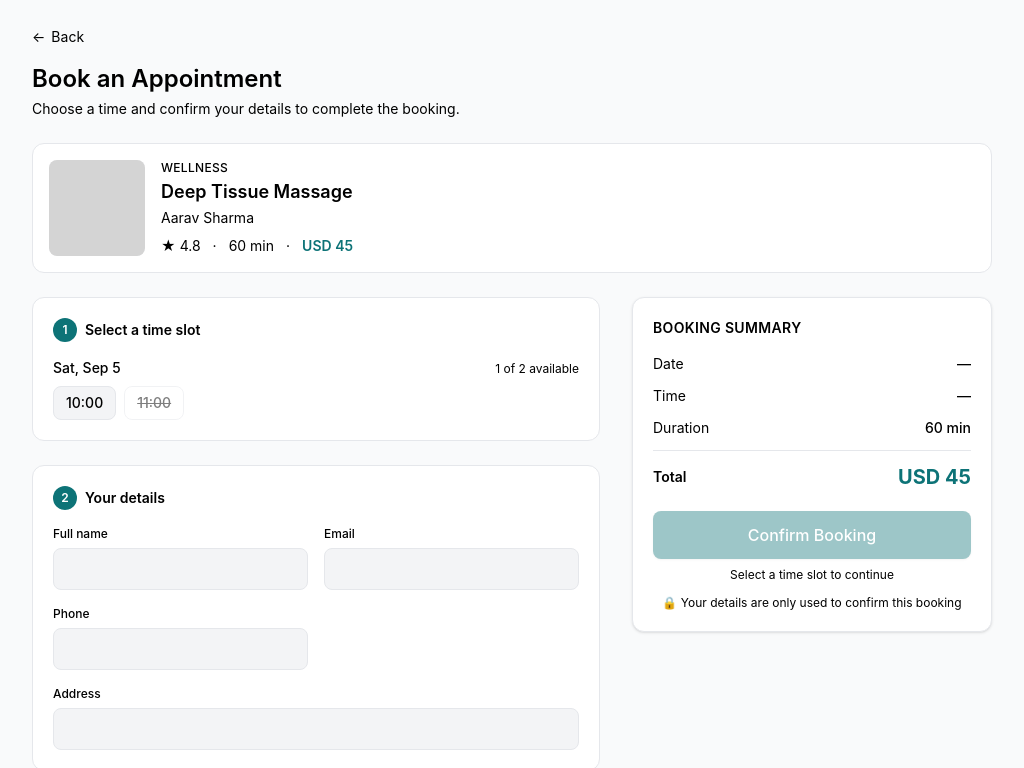
Scenario: BookingPage › shows a slot conflict message instead of navigating
Click the button "10:00".
click(85, 403)  # box [53, 386, 116, 420]
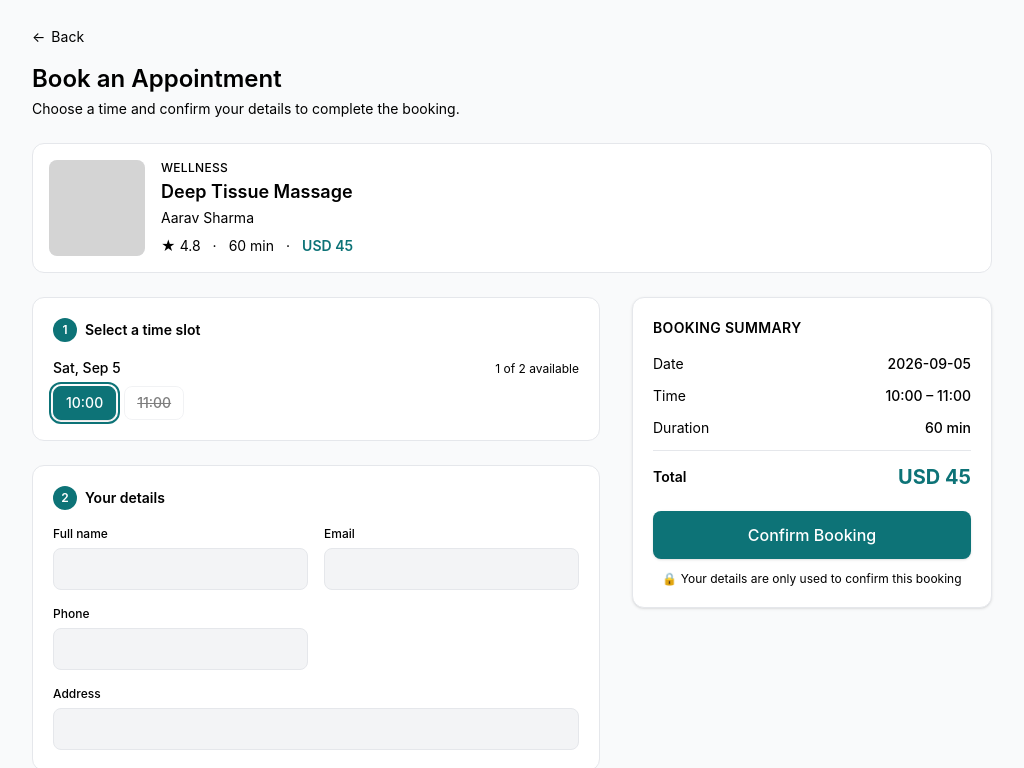
Click the button "Confirm Booking".
click(812, 535)  # box [653, 511, 971, 559]
(page scrolled)
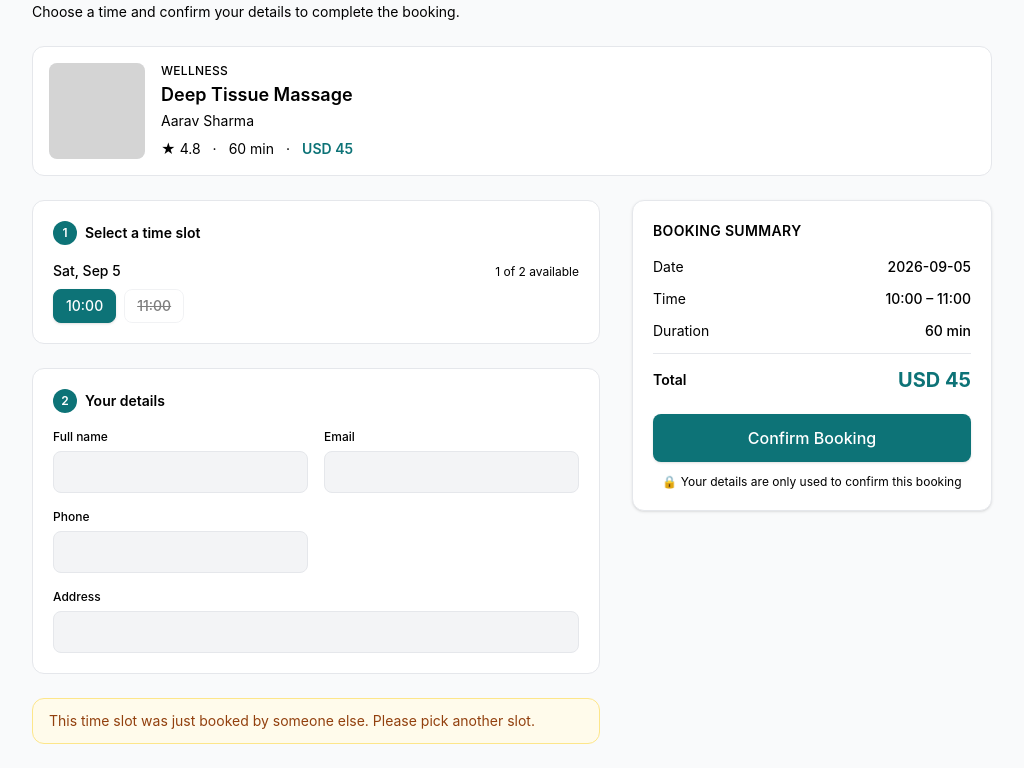
Expected: the message shows "just booked by someone else", [49, 712, 535, 729]
